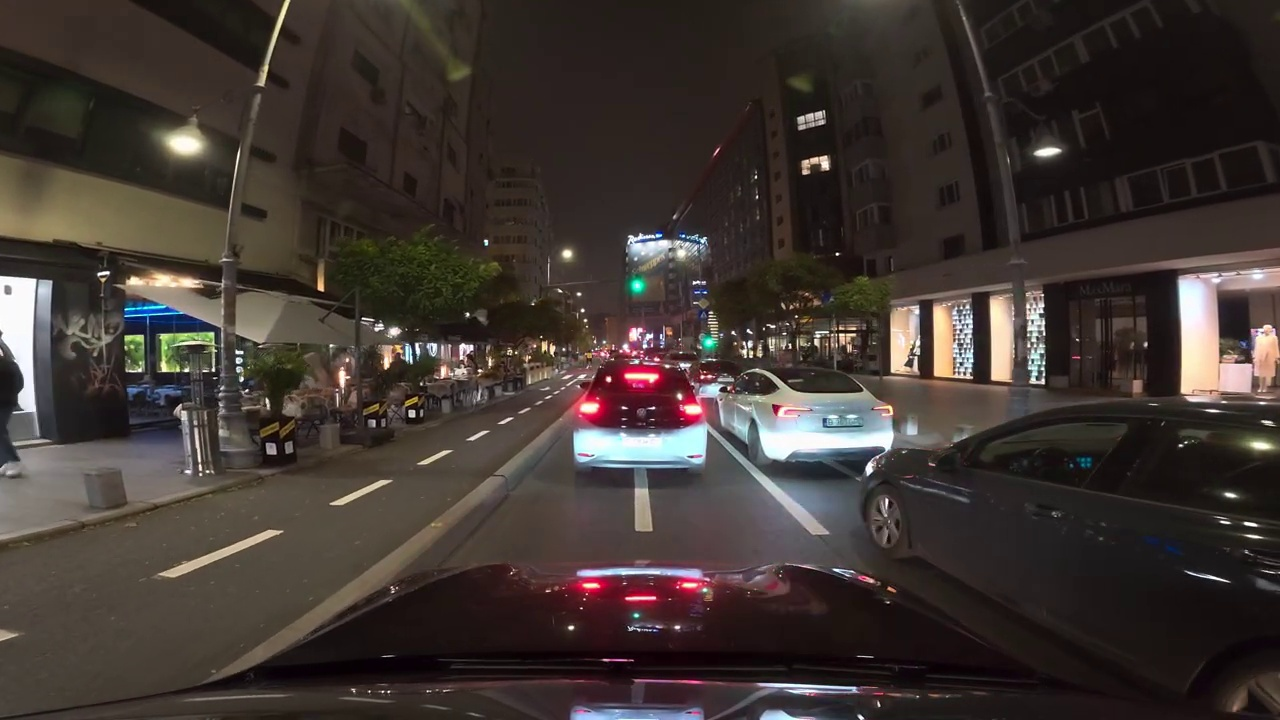acesa: (164, 130, 203, 158), (1032, 141, 1062, 165), (556, 245, 578, 267)
